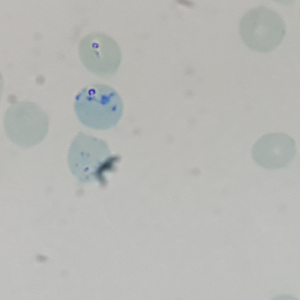aggregate reticulocyte: (72, 82, 126, 132)
erythrocyte: (237, 4, 288, 55), (1, 100, 51, 149), (76, 31, 123, 78), (248, 131, 298, 171)
punctate reticulocyte: (65, 132, 113, 185)
